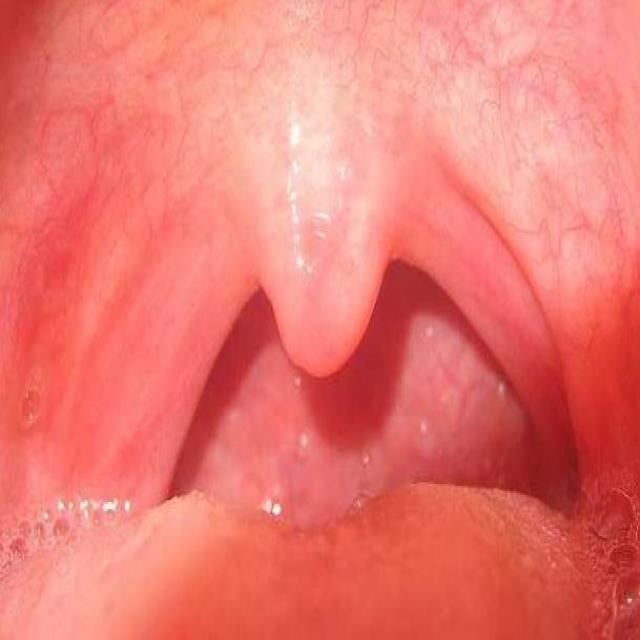Non Pharyngitis: (497, 113, 640, 415), (15, 292, 88, 479)
